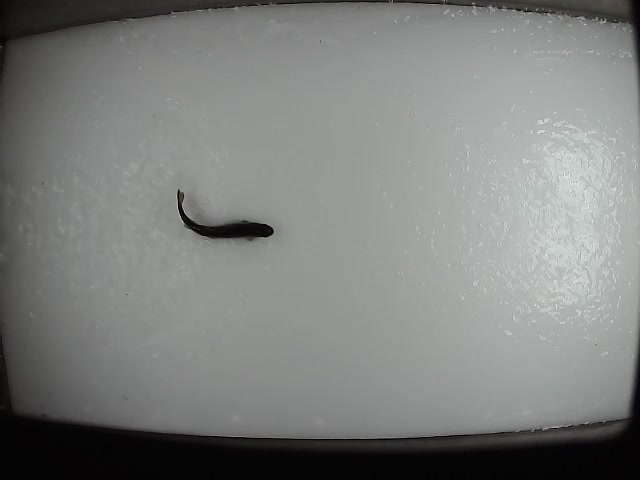Fish: (177, 188, 274, 241)
